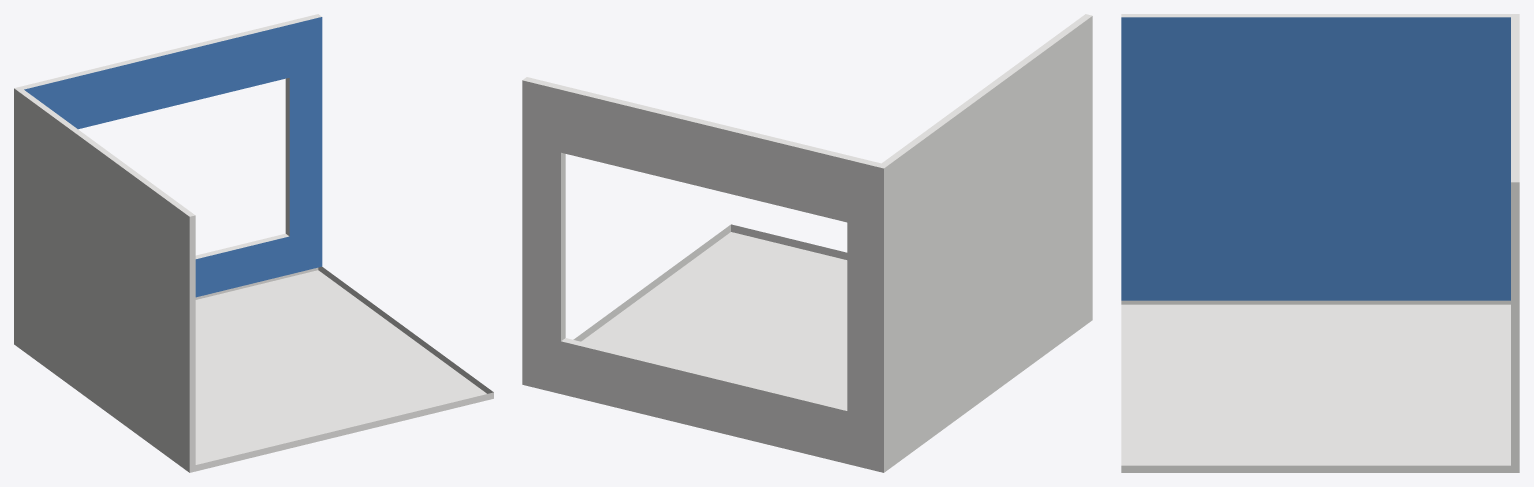
File: Living_Room_walls.fbx
3 views of the same model, side by side, from view 1: azimuth 30°, elevation 25°; view 2: azimuth 150°, elevation 25°; view 3: azimuth 270°, elevation 25° (orthographic). The views are drawn at different scales.
Parts seen in each view (by area): view 1: Living_Room_walls; view 2: Living_Room_walls; view 3: Living_Room_walls.
Part boxes in pixels (x1,y1,x2,y2): Living_Room_walls: [14, 14, 493, 472]; Living_Room_walls: [522, 14, 1092, 472]; Living_Room_walls: [1121, 14, 1519, 472].
Bounding box in the file's own units: 500 × 402 × 500.
